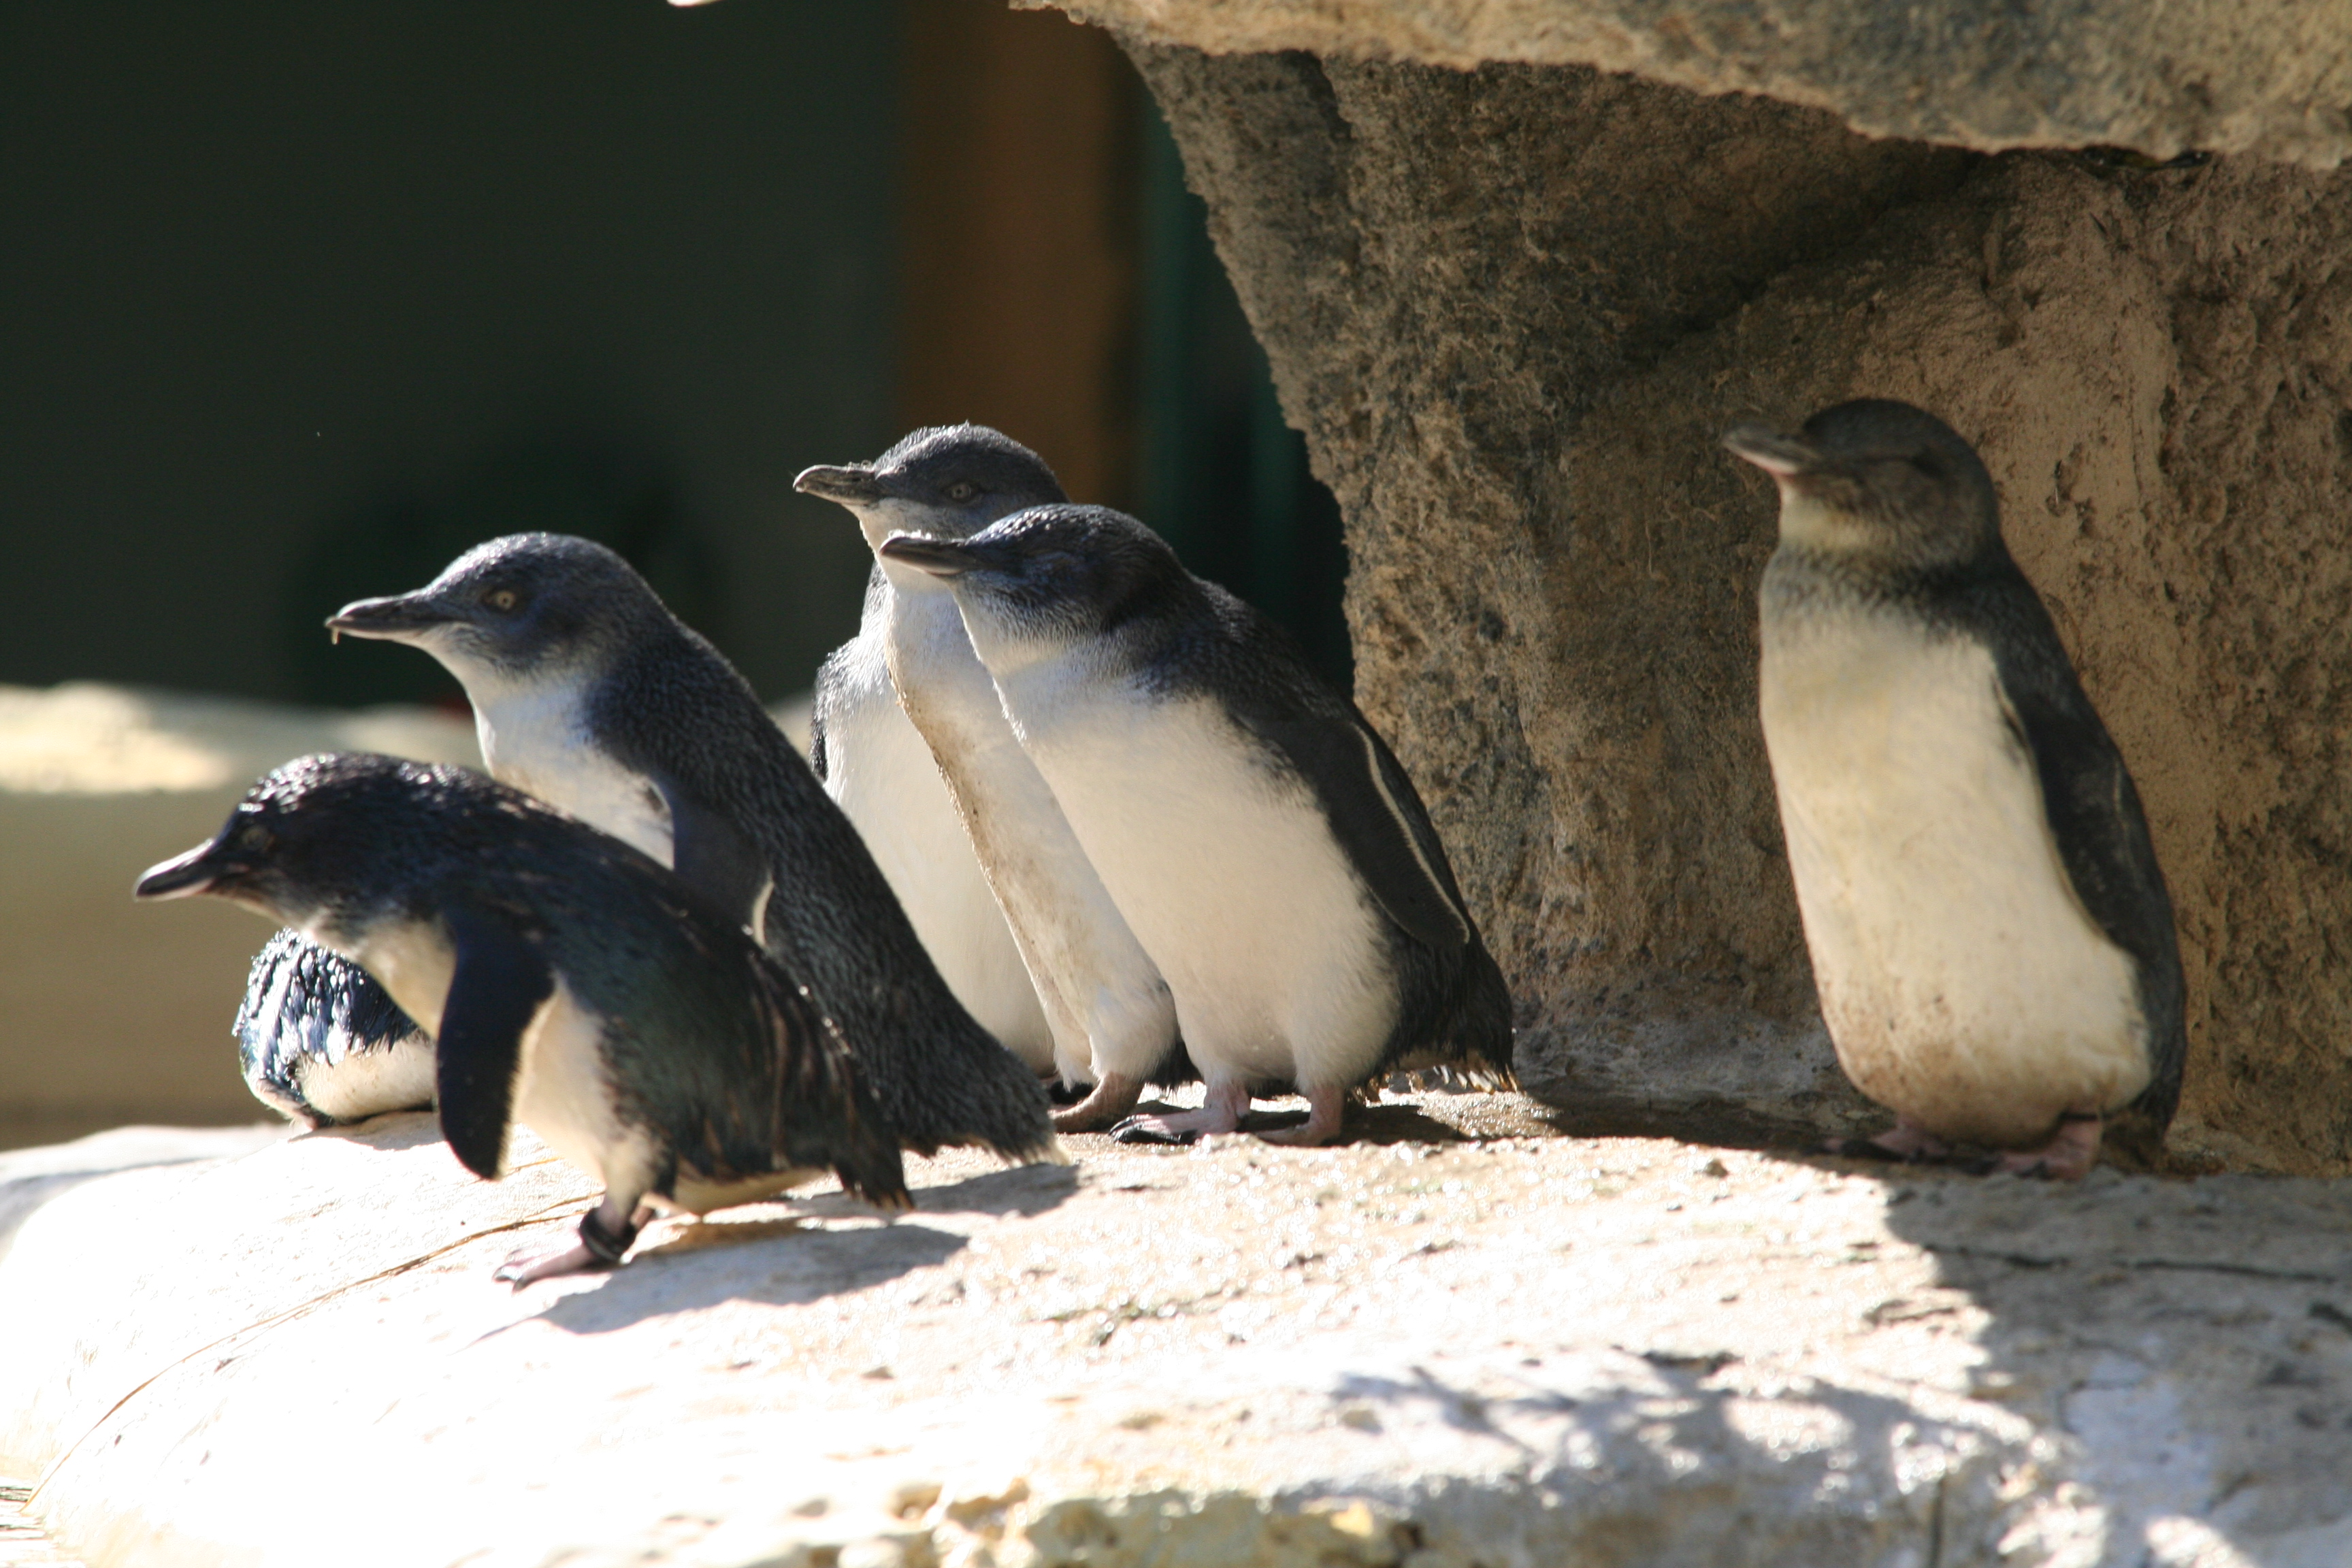penguin: (130, 742, 954, 1278), (878, 518, 1536, 1134), (1717, 394, 2212, 1181)
